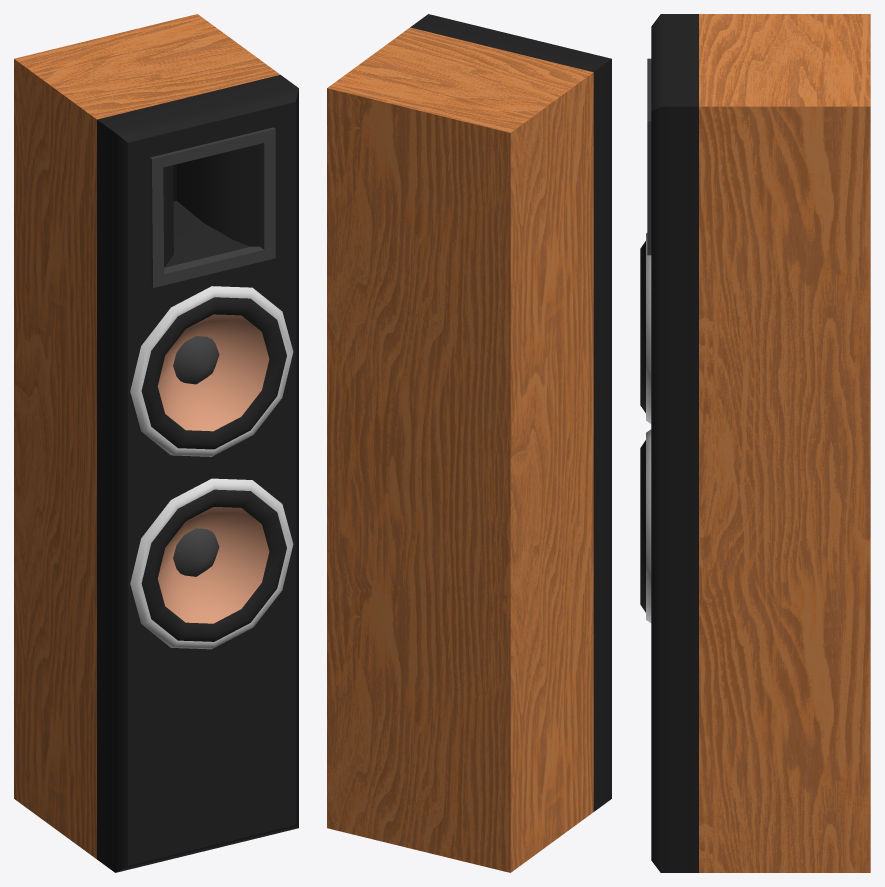
Rendered from entertainment_019.fbx.
3 views of the same model, side by side, from view 1: azimuth 30°, elevation 25°; view 2: azimuth 150°, elevation 25°; view 3: azimuth 270°, elevation 25° (orthographic). The views are drawn at different scales.
Visible parts, largest first — view 1: entertainment_019; view 2: entertainment_019; view 3: entertainment_019.
Boxes of the visible parts, <box> form: entertainment_019: <box>14,14,298,872</box>; entertainment_019: <box>327,14,611,872</box>; entertainment_019: <box>640,14,870,872</box>.
Size of the model in its own units: 38.23 by 40.16 by 147.
